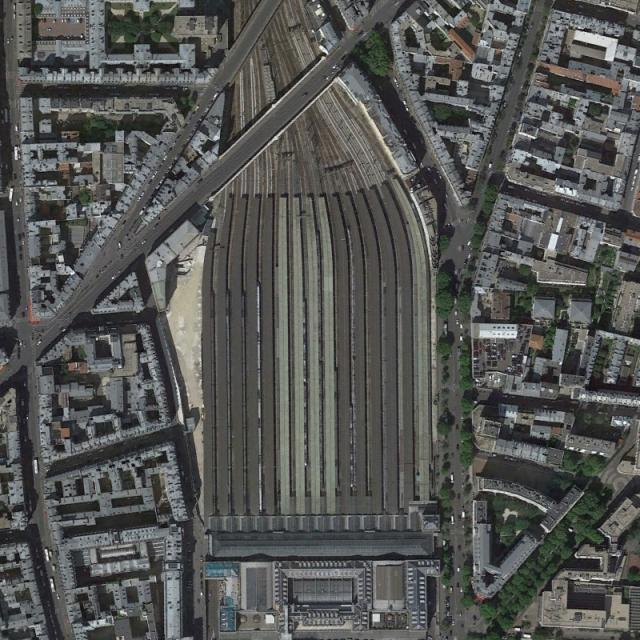vehicle: (8, 188, 14, 202), (50, 578, 55, 593), (45, 548, 50, 562), (34, 459, 38, 474), (14, 146, 18, 160), (4, 108, 8, 122), (51, 564, 57, 572), (442, 202, 448, 210), (212, 93, 218, 100), (426, 166, 432, 173), (433, 178, 439, 185), (450, 515, 454, 525), (48, 550, 53, 558), (199, 590, 204, 598), (14, 123, 18, 132), (450, 474, 454, 483), (511, 628, 520, 632), (332, 63, 338, 69), (451, 618, 455, 627), (141, 239, 146, 246), (137, 195, 142, 202), (402, 98, 407, 105), (467, 239, 472, 246), (522, 634, 530, 638), (20, 398, 24, 406), (22, 417, 26, 425), (23, 434, 27, 442), (56, 593, 60, 601), (459, 334, 463, 342), (458, 610, 462, 618), (139, 210, 144, 216), (37, 340, 42, 346), (462, 509, 465, 519), (141, 191, 146, 197), (302, 92, 307, 98), (392, 77, 398, 82), (118, 242, 122, 249), (488, 163, 492, 170), (18, 196, 22, 203), (444, 191, 448, 198), (468, 252, 472, 259), (454, 282, 458, 289), (454, 309, 458, 316), (395, 82, 400, 87), (19, 338, 22, 346), (111, 274, 115, 280), (326, 75, 330, 81), (405, 106, 409, 112), (404, 129, 408, 135), (460, 322, 463, 330), (450, 586, 453, 594), (22, 239, 25, 246), (26, 413, 29, 420), (23, 380, 26, 387), (456, 318, 459, 325), (457, 565, 460, 572), (460, 587, 463, 594), (438, 174, 442, 179), (15, 200, 18, 206), (25, 304, 28, 310), (17, 217, 20, 222)
